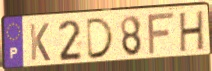2: (57, 19, 85, 63)
8: (119, 14, 143, 57)
D: (85, 16, 116, 61)
F: (146, 11, 176, 57)
H: (179, 9, 205, 55)
K: (28, 22, 52, 63)
